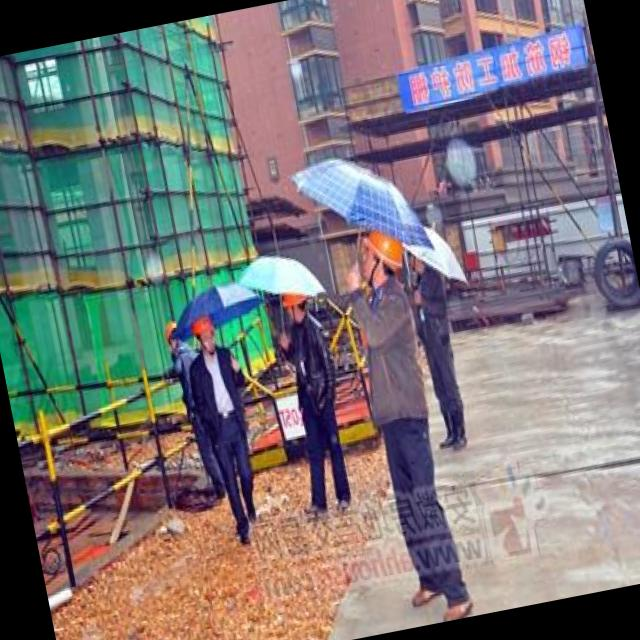helmet: (354, 227, 413, 296), (188, 312, 222, 361), (278, 282, 310, 329), (159, 310, 188, 356)
